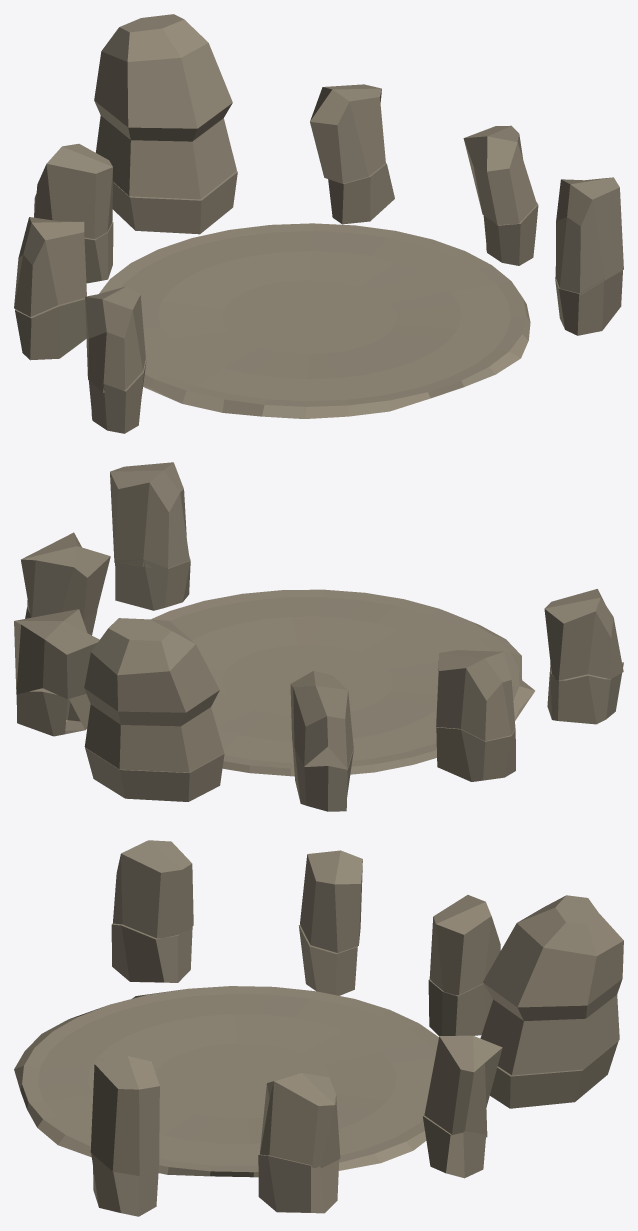
File: stonehenge.fbx
3 views of the same model, one above another, from view 1: azimuth 30°, elevation 25°; view 2: azimuth 150°, elevation 25°; view 3: azimuth 270°, elevation 25° (orthographic). The views are drawn at different scales.
Parts seen in each view (by area): view 1: Stonehenge.base, Stonehenge.top4, Stonehenge.top1, Stonehenge.top3, Stonehenge.top6, Stonehenge.top5, Stonehenge.top7, Stonehenge.top2, Stonehenge.bottom4, Stonehenge.bottom6, Stonehenge.bottom1, Stonehenge.bottom3 (+3 smaller); view 2: Stonehenge.base, Stonehenge.top4, Stonehenge.top1, Stonehenge.top6, Stonehenge.top3, Stonehenge.top7, Stonehenge.top2, Stonehenge.top5, Stonehenge.bottom4, Stonehenge.bottom6, Stonehenge.bottom1, Stonehenge.bottom7 (+2 smaller); view 3: Stonehenge.base, Stonehenge.top4, Stonehenge.top1, Stonehenge.top7, Stonehenge.top2, Stonehenge.top3, Stonehenge.top6, Stonehenge.top5, Stonehenge.bottom2, Stonehenge.bottom7, Stonehenge.bottom4, Stonehenge.bottom5 (+3 smaller).
Part boxes in pixels (bbox=[...]): Stonehenge.base: bbox=[99, 223, 530, 418]; Stonehenge.top4: bbox=[94, 14, 236, 199]; Stonehenge.top1: bbox=[555, 177, 623, 295]; Stonehenge.top3: bbox=[310, 84, 385, 183]; Stonehenge.top6: bbox=[14, 217, 86, 316]; Stonehenge.top5: bbox=[34, 143, 112, 238]; Stonehenge.top7: bbox=[85, 286, 145, 392]; Stonehenge.top2: bbox=[463, 125, 536, 224]; Stonehenge.bottom4: bbox=[112, 171, 237, 234]; Stonehenge.bottom6: bbox=[15, 298, 86, 360]; Stonehenge.bottom1: bbox=[555, 270, 622, 335]; Stonehenge.bottom3: bbox=[328, 163, 394, 224]; Stonehenge.base: bbox=[151, 589, 534, 776]; Stonehenge.top4: bbox=[84, 618, 223, 772]; Stonehenge.top1: bbox=[110, 462, 189, 568]; Stonehenge.top6: bbox=[436, 650, 515, 741]; Stonehenge.top3: bbox=[14, 609, 99, 699]; Stonehenge.top7: bbox=[544, 589, 623, 680]; Stonehenge.top2: bbox=[21, 532, 110, 620]; Stonehenge.top5: bbox=[290, 671, 353, 769]; Stonehenge.bottom4: bbox=[85, 747, 224, 801]; Stonehenge.bottom6: bbox=[436, 727, 515, 781]; Stonehenge.bottom1: bbox=[115, 556, 190, 610]; Stonehenge.bottom7: bbox=[547, 662, 623, 724]; Stonehenge.base: bbox=[14, 986, 438, 1177]; Stonehenge.top4: bbox=[480, 895, 623, 1075]; Stonehenge.top1: bbox=[90, 1056, 159, 1175]; Stonehenge.top7: bbox=[113, 840, 193, 938]; Stonehenge.top2: bbox=[260, 1073, 340, 1167]; Stonehenge.top3: bbox=[424, 1035, 502, 1137]; Stonehenge.top6: bbox=[300, 850, 362, 952]; Stonehenge.top5: bbox=[429, 895, 500, 995]; Stonehenge.bottom2: bbox=[258, 1154, 339, 1213]; Stonehenge.bottom7: bbox=[111, 923, 192, 982]; Stonehenge.bottom4: bbox=[490, 1041, 618, 1108]; Stonehenge.bottom5: bbox=[428, 979, 493, 1035].
Bounding box in the file's own units: 789 × 276 × 781.
